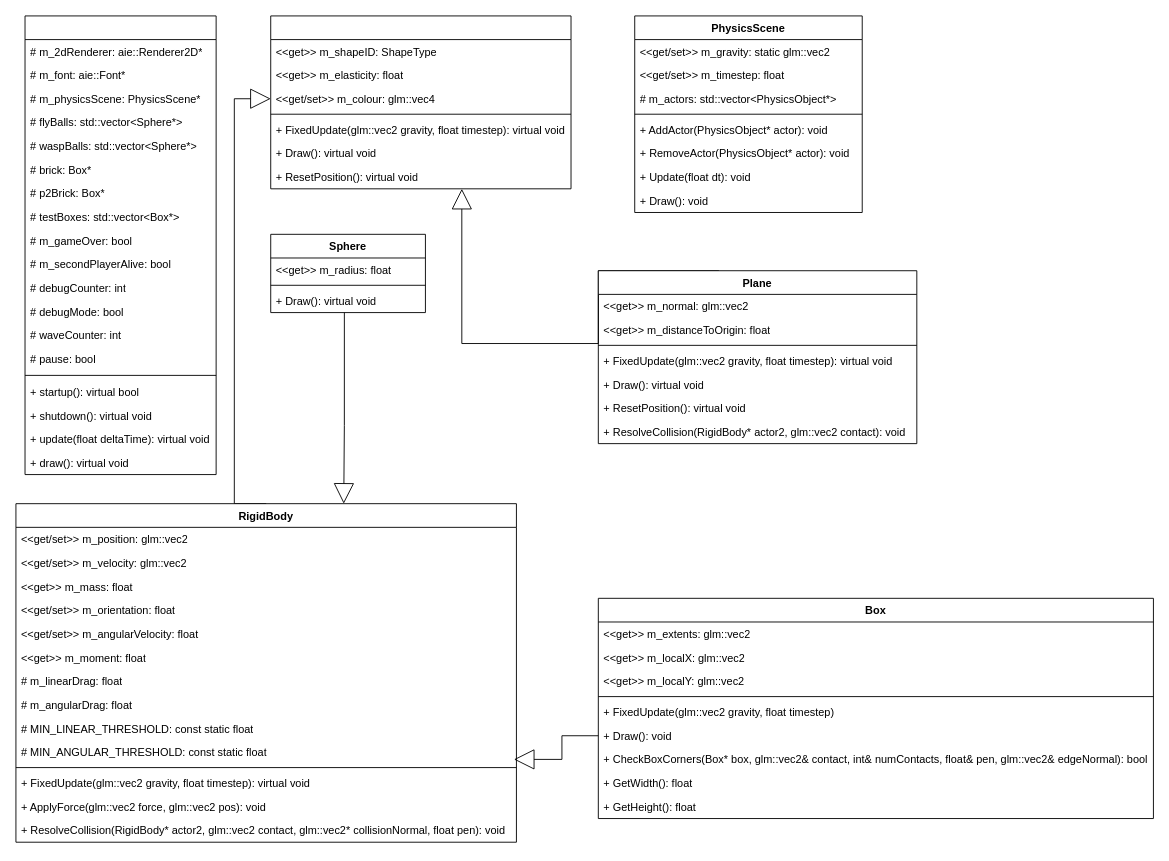
The diagram is 1169 pixels wide and 861 high, and some of its shapes have lost their labels. Each missing label, with the box of its shape:
PhysicsApp: (24, 15, 216, 475)
PhysicsObject: (270, 15, 571, 189)
